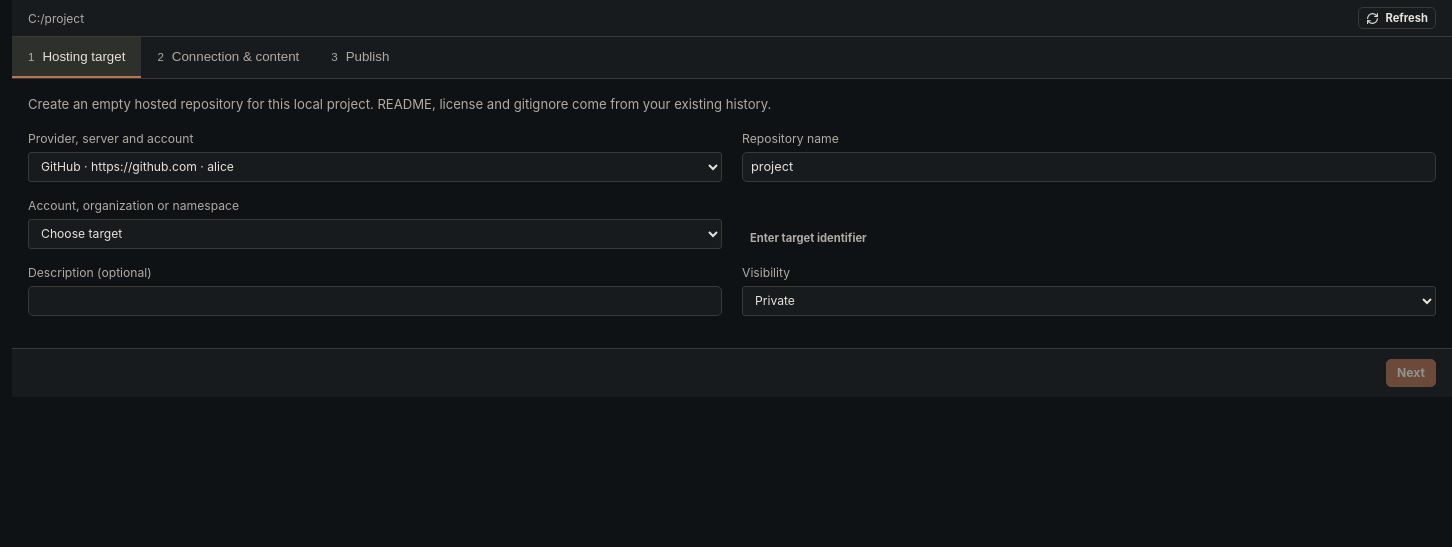
it: shared publication wizard › keeps existing defaults unless explicitly selected and displays dirty files without auto-committing
Select "alice" in the dropdown labelled "Account, organization or namespace": (375, 234) [28,219,722,249]
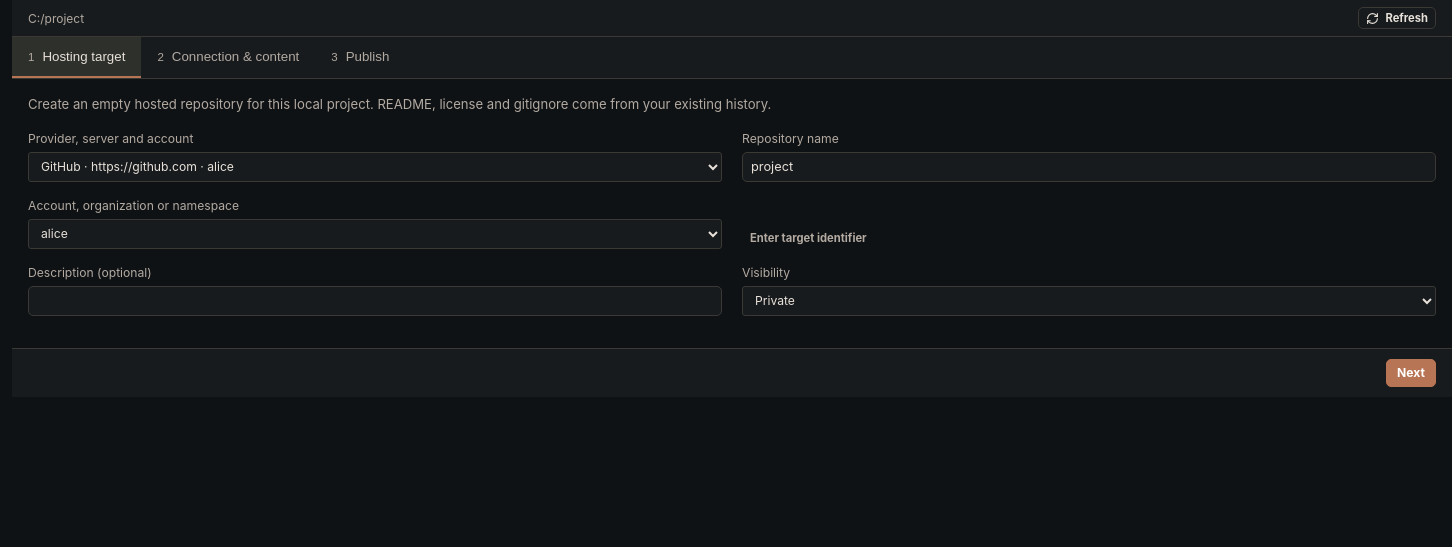
Click the button "Next": (1411, 373) [1386,359,1436,387]
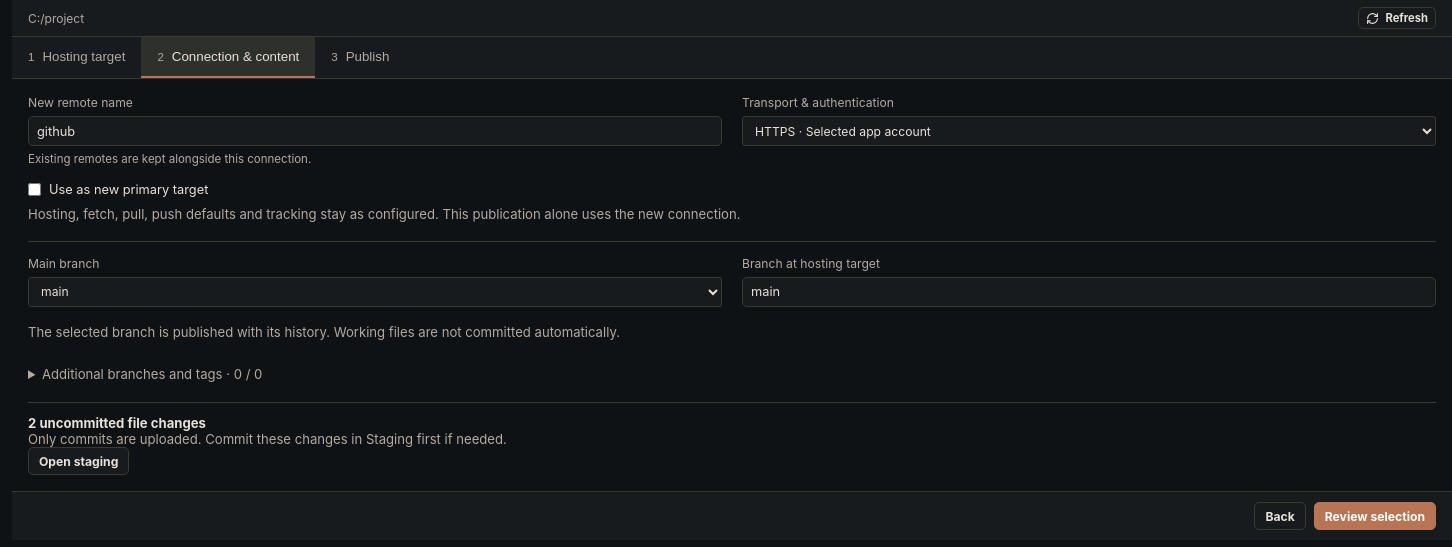
Result: the 1st field holds "github" at [28,116,722,146]
Result: the text "2 uncommitted file changes" is shown at [28,415,206,431]
Result: the checkbox labelled "Use as new primary target" is not checked at [28,183,41,196]
